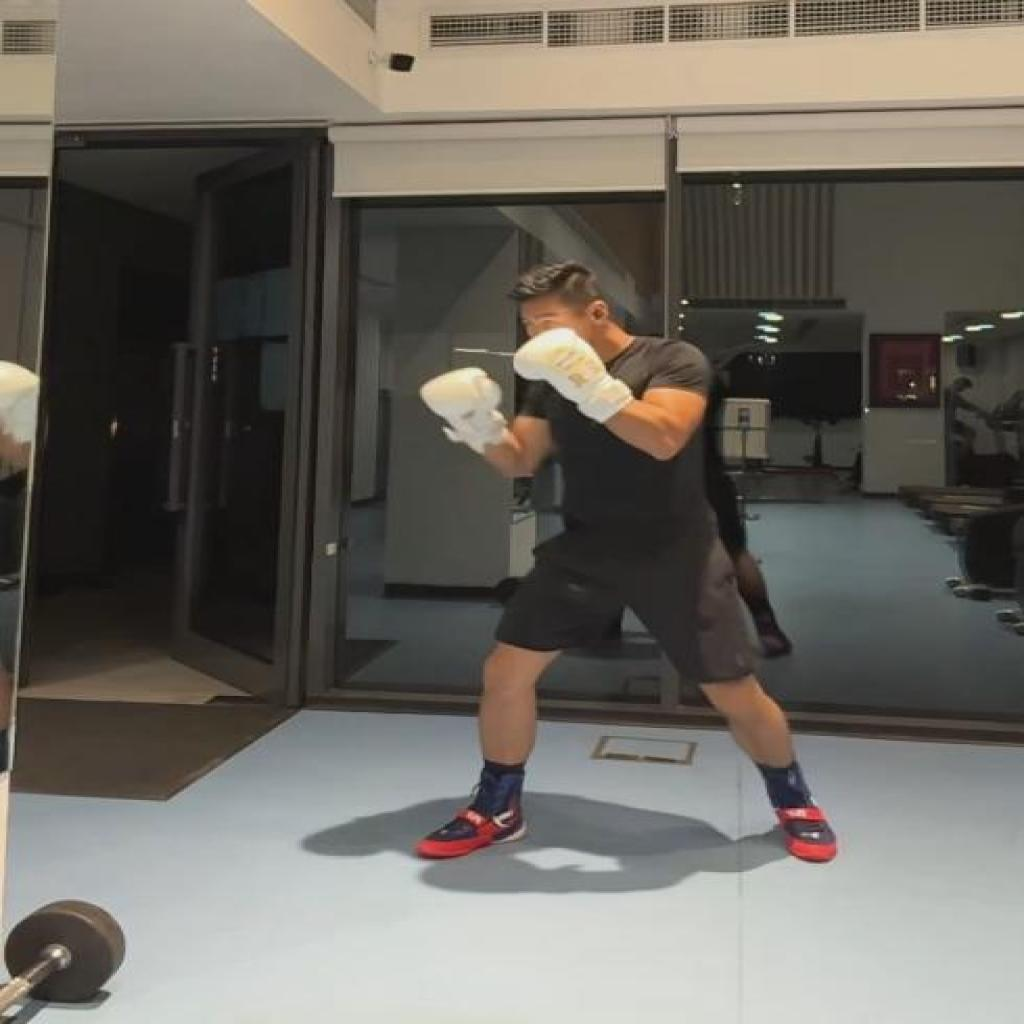no punch: (426, 266, 842, 864)
